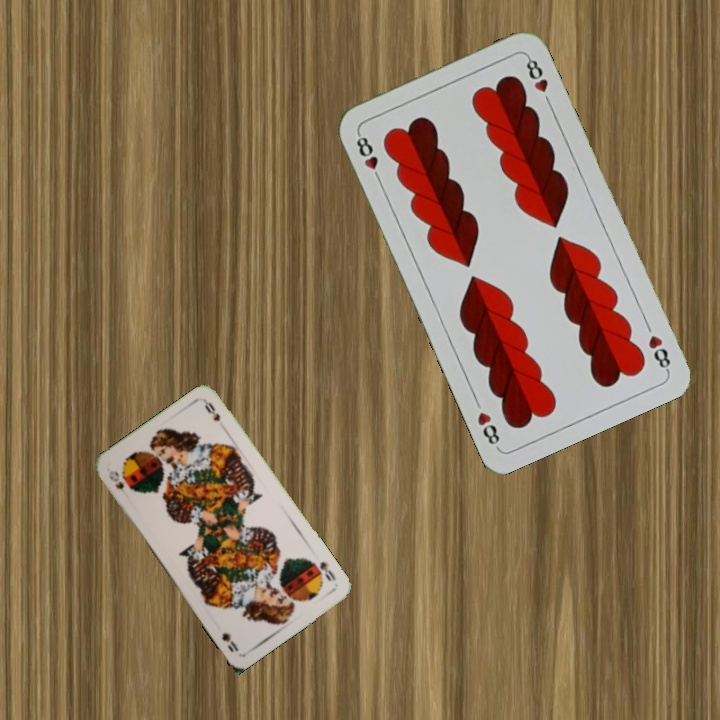H8: (352, 129, 384, 185), (644, 331, 673, 374)
SO: (105, 466, 135, 494), (315, 557, 339, 584)
